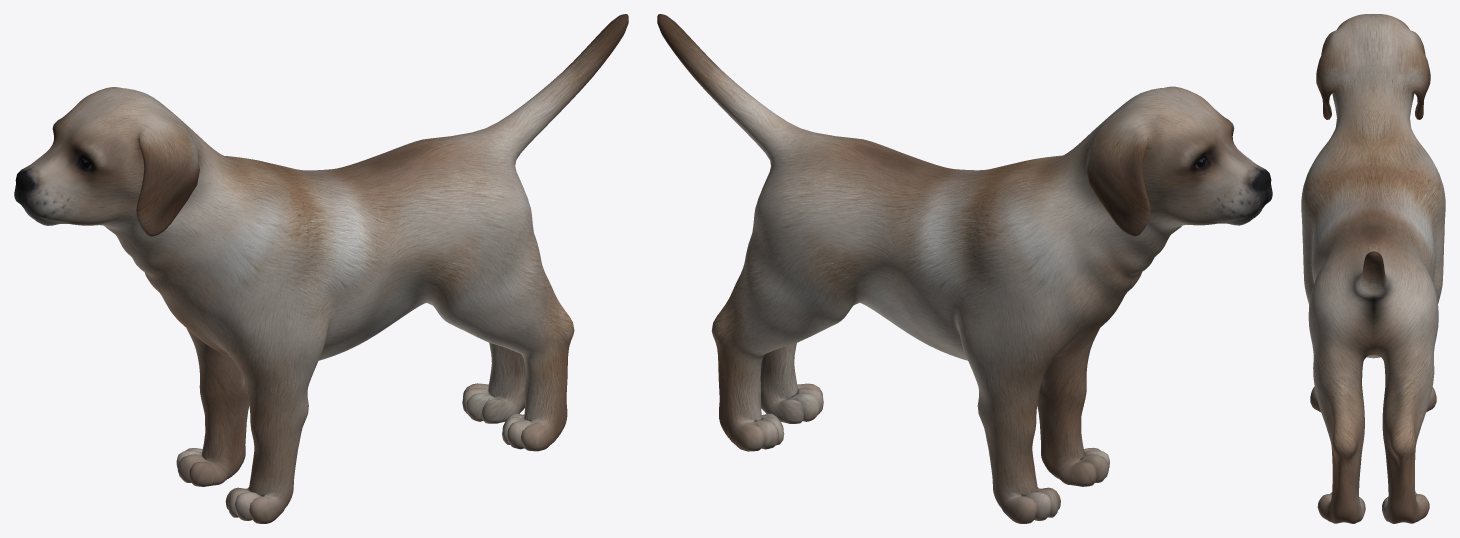
File: Dog.glb
3 views of the same model, side by side, from view 1: azimuth 30°, elevation 25°; view 2: azimuth 150°, elevation 25°; view 3: azimuth 270°, elevation 25° (orthographic). The views are drawn at different scales.
Parts seen in each view (by area): view 1: 037_Vray; view 2: 037_Vray; view 3: 037_Vray.
Boxes of the visible parts, x1,y1,x2,y2 form: 037_Vray: (14, 14, 628, 523); 037_Vray: (657, 14, 1272, 523); 037_Vray: (1301, 14, 1445, 523).
Bounding box in the file's own units: 36.28 × 24.43 × 9.28.
1 material, 1 textured.
